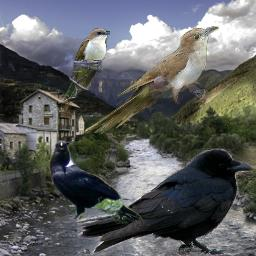Crow: (77, 148, 253, 256), (48, 140, 143, 226)
Cuckoo: (84, 26, 219, 134), (58, 27, 110, 112)
